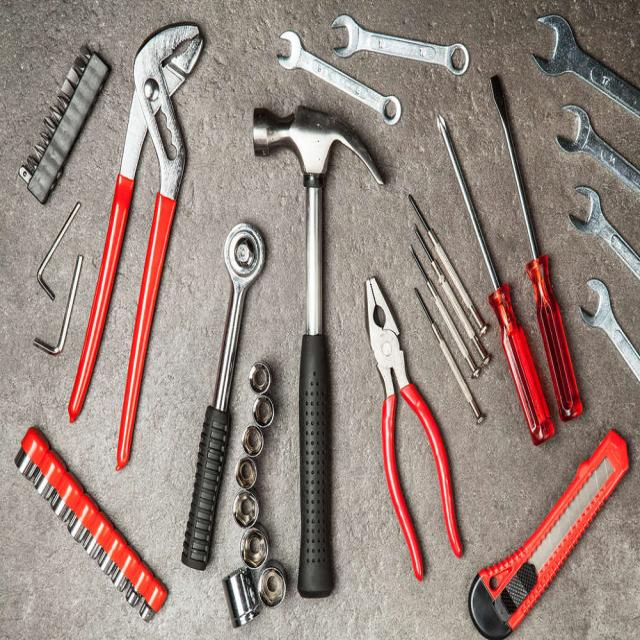Screwdriver: (438, 114, 554, 443), (491, 77, 582, 421)
